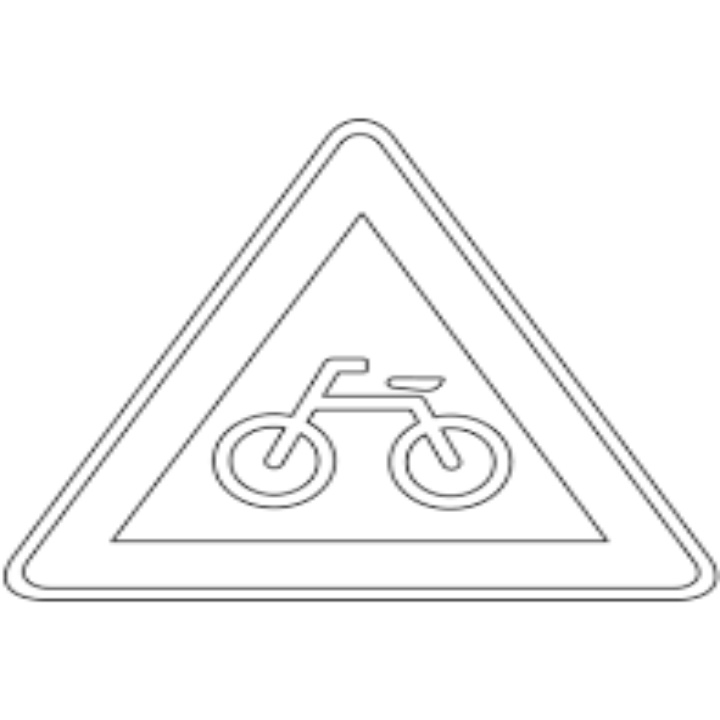bicycle: (197, 279, 525, 607)
